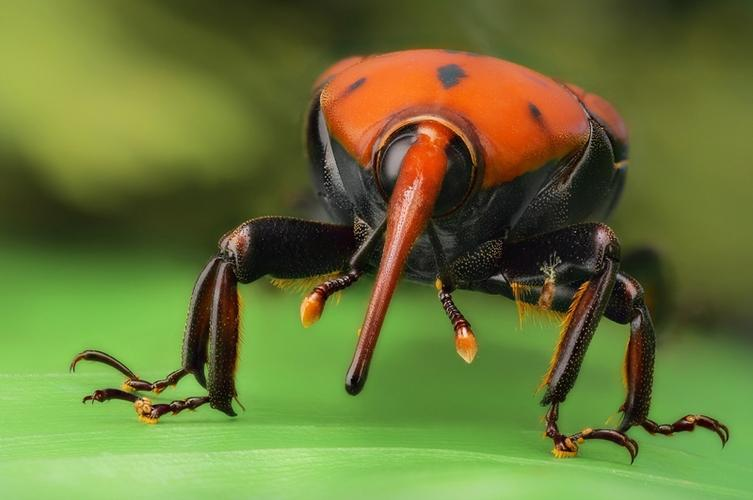Curculionidae: (68, 46, 729, 465)
